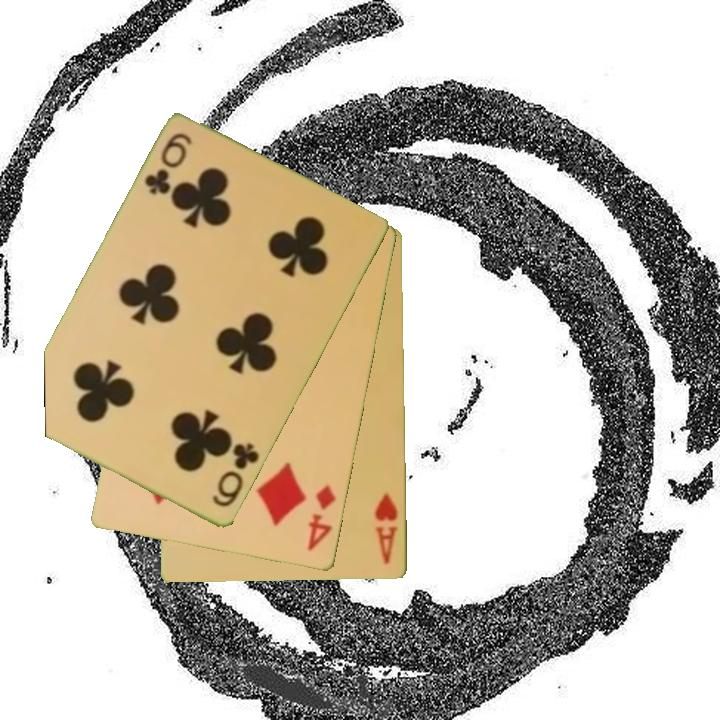4d: (304, 481, 340, 554)
6c: (208, 439, 263, 511), (141, 129, 196, 199)
Ah: (372, 490, 401, 568)
